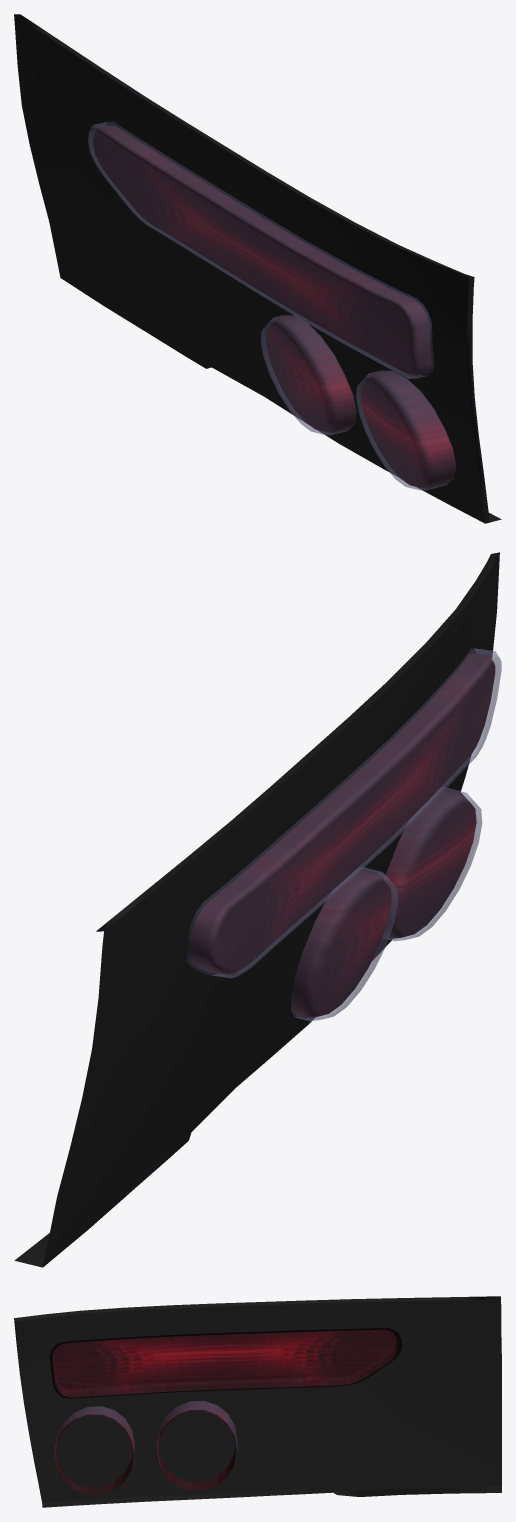
The picture shows the model from 3 angles, top to bottom: view 1: azimuth 30°, elevation 25°; view 2: azimuth 150°, elevation 25°; view 3: azimuth 270°, elevation 25°; orthographic projection. The views are drawn at different scales.
Parts seen in each view (by area): view 1: P353_20_541D_R_4_D_P353_20_541D_R, P353_20_541D_R_P353_20_541D_R_5_N, P353_20_541D_R_P353_20_541D_R_3_DTaSI, P353_20_541D_R_P353_20_541D_R_2_DTaSI, P353_20_541D_R_P353_20_541D_R_1_DTaSI; view 2: P353_20_541D_R_4_D_P353_20_541D_R, P353_20_541D_R_P353_20_541D_R_5_N, P353_20_541D_R_P353_20_541D_R_3_DTaSI, P353_20_541D_R_P353_20_541D_R_1_DTaSI, P353_20_541D_R_P353_20_541D_R_2_DTaSI; view 3: P353_20_541D_R_4_D_P353_20_541D_R, P353_20_541D_R_P353_20_541D_R_5_N, P353_20_541D_R_P353_20_541D_R_1_DTaSI, P353_20_541D_R_P353_20_541D_R_2_DTaSI.
Boxes of the visible parts, x1,y1,x2,y2 form: P353_20_541D_R_4_D_P353_20_541D_R: (14,14,501,523); P353_20_541D_R_P353_20_541D_R_5_N: (93,121,455,488); P353_20_541D_R_P353_20_541D_R_3_DTaSI: (88,121,434,378); P353_20_541D_R_P353_20_541D_R_2_DTaSI: (356,370,455,490); P353_20_541D_R_P353_20_541D_R_1_DTaSI: (260,315,356,435); P353_20_541D_R_4_D_P353_20_541D_R: (14,552,499,1267); P353_20_541D_R_P353_20_541D_R_5_N: (185,648,495,1018); P353_20_541D_R_P353_20_541D_R_3_DTaSI: (185,648,501,978); P353_20_541D_R_P353_20_541D_R_1_DTaSI: (291,867,398,1021); P353_20_541D_R_P353_20_541D_R_2_DTaSI: (383,787,482,941); P353_20_541D_R_4_D_P353_20_541D_R: (14,1296,501,1507); P353_20_541D_R_P353_20_541D_R_5_N: (49,1328,401,1495); P353_20_541D_R_P353_20_541D_R_1_DTaSI: (157,1401,237,1464); P353_20_541D_R_P353_20_541D_R_2_DTaSI: (54,1406,134,1457).
Size of the model in its own units: 11.6 by 22.5 by 56.76.
